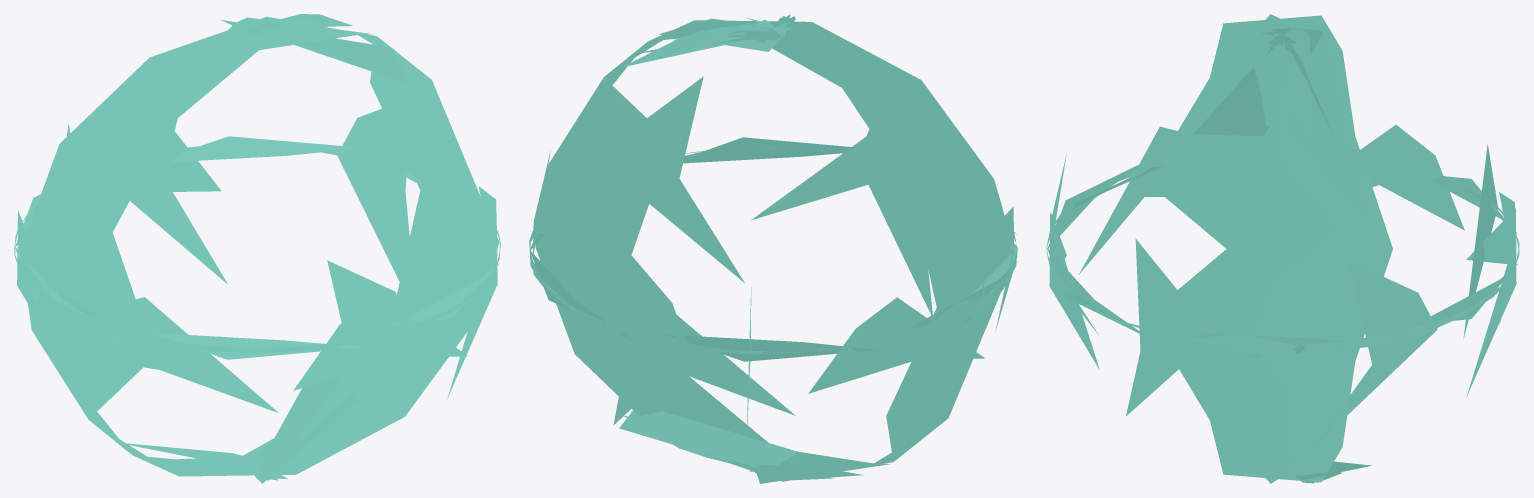
File: fenders-2.glb
The picture shows the model from 3 angles, left to right: view 1: azimuth 30°, elevation 25°; view 2: azimuth 150°, elevation 25°; view 3: azimuth 270°, elevation 25°; orthographic projection. The views are drawn at different scales.
Parts seen in each view (by area): view 1: fenders; view 2: fenders; view 3: fenders.
Boxes of the visible parts, x1,y1,x2,y2 form: fenders: (14, 14, 500, 483); fenders: (529, 14, 1017, 483); fenders: (1046, 14, 1519, 483).
Size of the model in its own units: 2 by 2 by 2.
